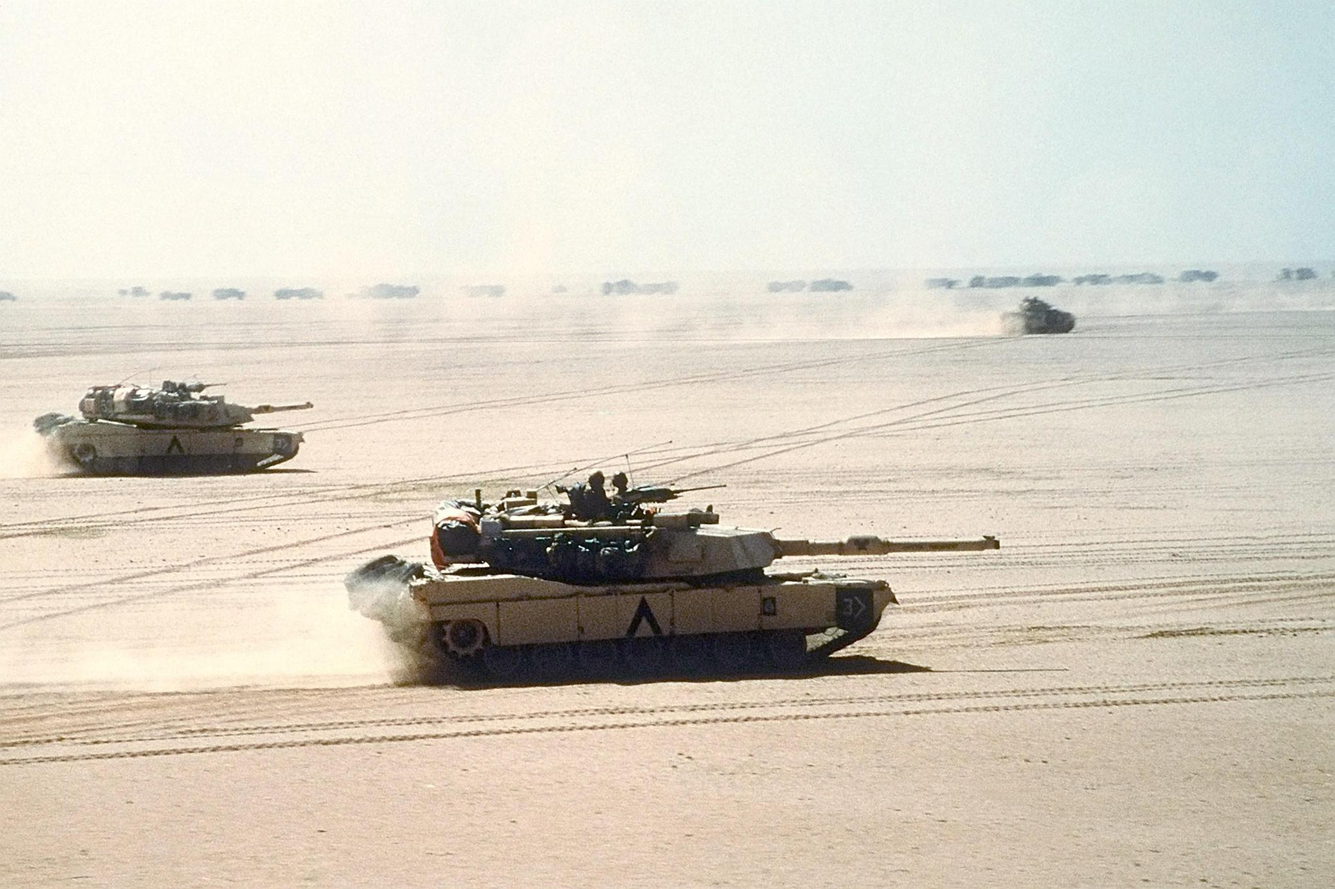tank: (344, 452, 1004, 684), (29, 370, 317, 480), (995, 295, 1082, 341)
